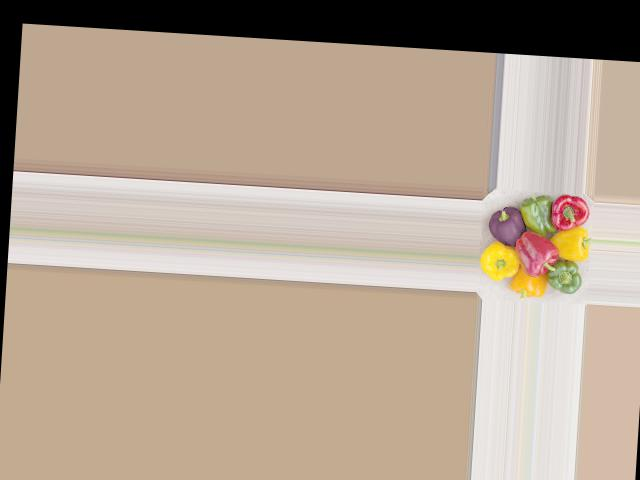bell_pepper: (488, 195, 534, 248)
